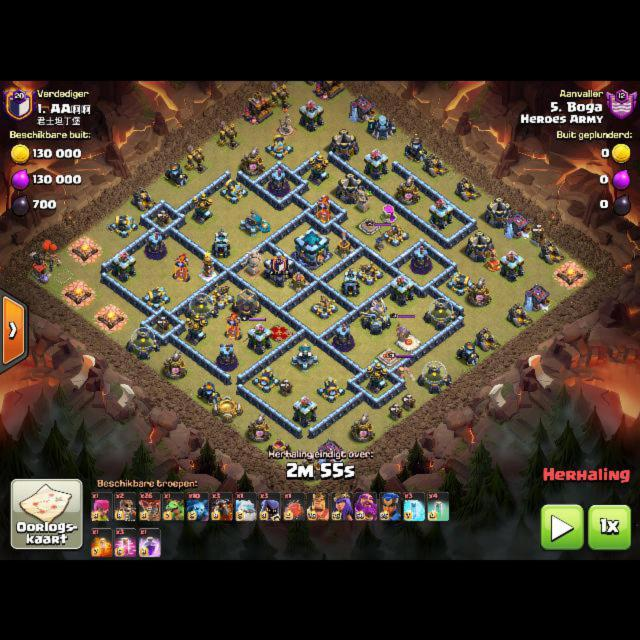AD: (184, 313, 206, 345), (365, 361, 387, 393), (307, 153, 329, 185), (192, 192, 213, 224)
AirSweeper: (334, 231, 354, 258), (288, 271, 308, 292)
BombTower: (212, 227, 230, 257), (341, 267, 359, 296)
Canon: (252, 366, 280, 392), (317, 376, 345, 402), (265, 133, 293, 159), (219, 178, 247, 203), (446, 271, 474, 295), (142, 285, 170, 309), (109, 214, 138, 237)
ClanCastle: (264, 250, 295, 287)
Eagle: (361, 296, 391, 334)
Inferno: (224, 311, 242, 339), (172, 253, 190, 281), (316, 195, 333, 223)
KingPad: (377, 347, 401, 365)
Mortar: (404, 136, 428, 162), (455, 341, 479, 366), (164, 162, 188, 187), (197, 382, 222, 405)
QueenPad: (268, 323, 293, 342)
RcPad: (359, 218, 380, 233)
Scattershot: (239, 209, 270, 235), (291, 340, 317, 369)
TH13: (293, 225, 329, 269)
WardenPad: (398, 334, 420, 350)
WizzTower: (268, 166, 289, 195), (332, 321, 353, 349), (216, 341, 237, 369), (144, 229, 165, 257), (410, 243, 431, 271)
Xbow: (207, 281, 234, 307), (310, 292, 337, 317), (354, 260, 382, 283), (381, 222, 408, 245)
